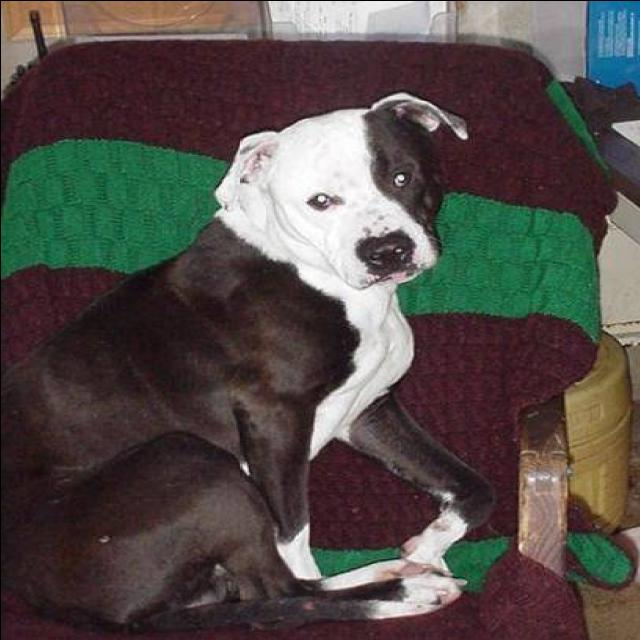dog: (0, 77, 523, 640)
